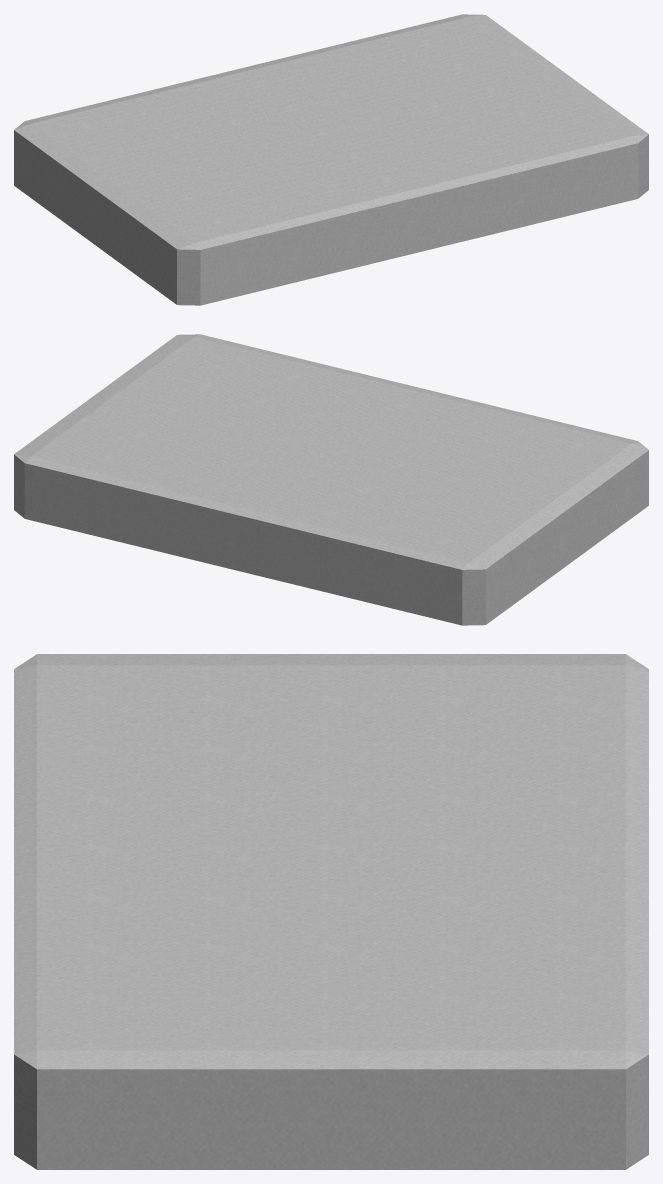
The model's file is mattress.glb.
3 renders of one model, top to bottom at view 1: azimuth 30°, elevation 25°; view 2: azimuth 150°, elevation 25°; view 3: azimuth 270°, elevation 25°, orthographic. The views are drawn at different scales.
Visible parts, largest first — view 1: Cube.033; view 2: Cube.033; view 3: Cube.033.
Boxes of the visible parts, x1=… form: Cube.033: x1=14, y1=14, x2=648, y2=305; Cube.033: x1=14, y1=334, x2=648, y2=625; Cube.033: x1=14, y1=654, x2=648, y2=1169.
Size of the model in its own units: 2 by 0.2428 by 1.29.
Materials: 1 (1 with a texture image).
